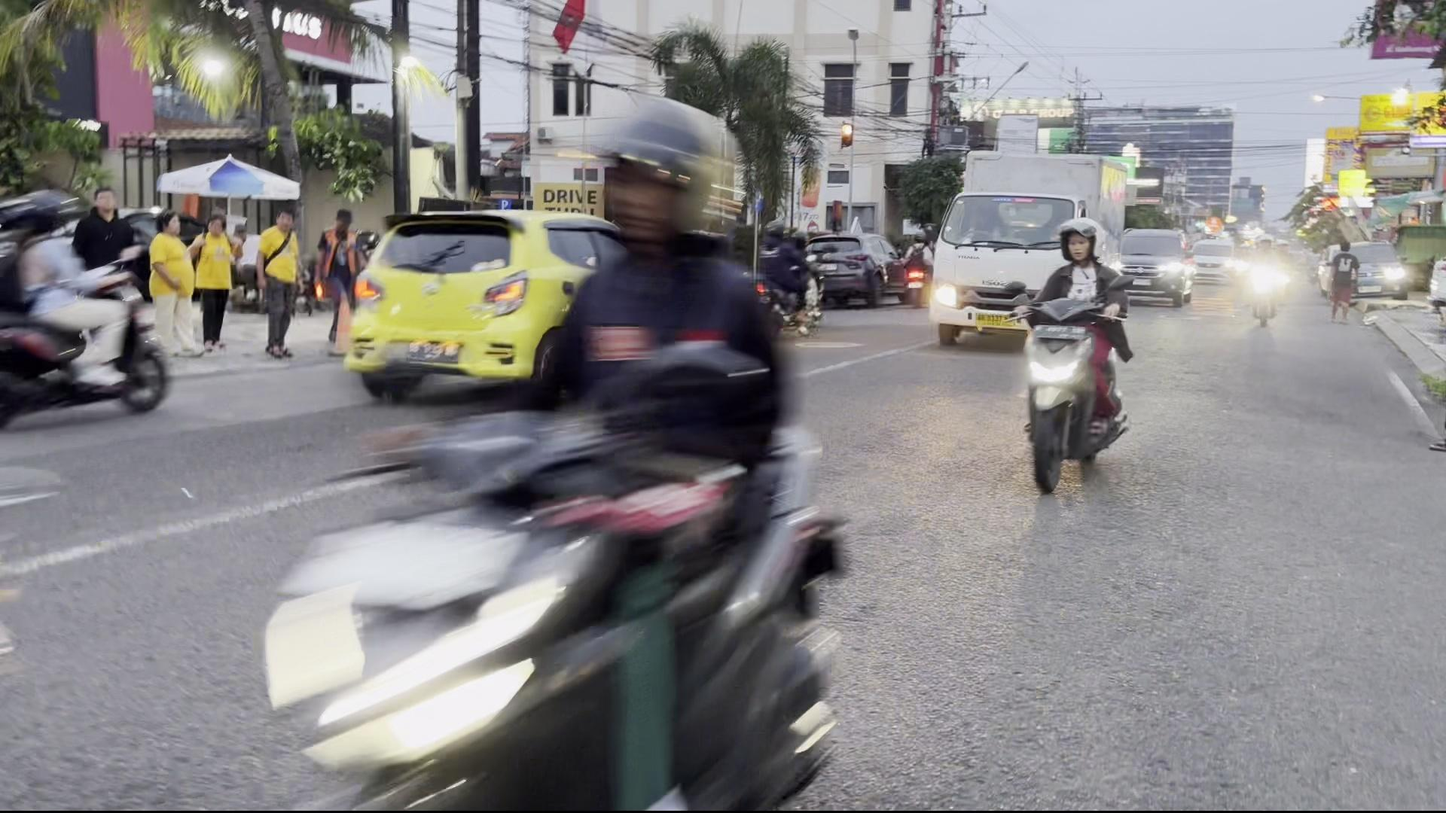helm: (1052, 214, 1111, 272)
riding: (997, 210, 1149, 495)
